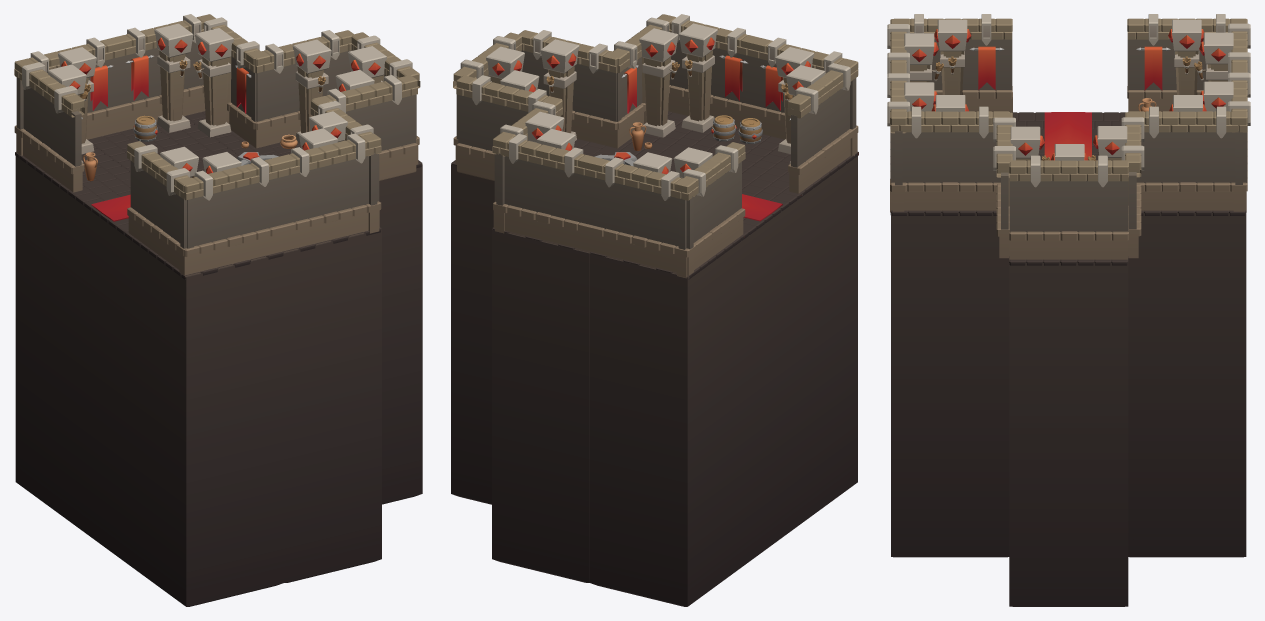
Rendered from dungeonkit_starting_room.fbx.
3 renders of one model, left to right at view 1: azimuth 30°, elevation 25°; view 2: azimuth 150°, elevation 25°; view 3: azimuth 270°, elevation 25°, orthographic. The views are drawn at different scales.
Parts seen in each view (by area): view 1: Cube.079; view 2: Cube.079; view 3: Cube.079.
Part boxes in pixels (x1,y1,x2,y2): Cube.079: (14, 14, 422, 606); Cube.079: (451, 14, 858, 606); Cube.079: (887, 14, 1250, 606).
Bounding box in the file's own units: 2056 × 2829 × 2087.
